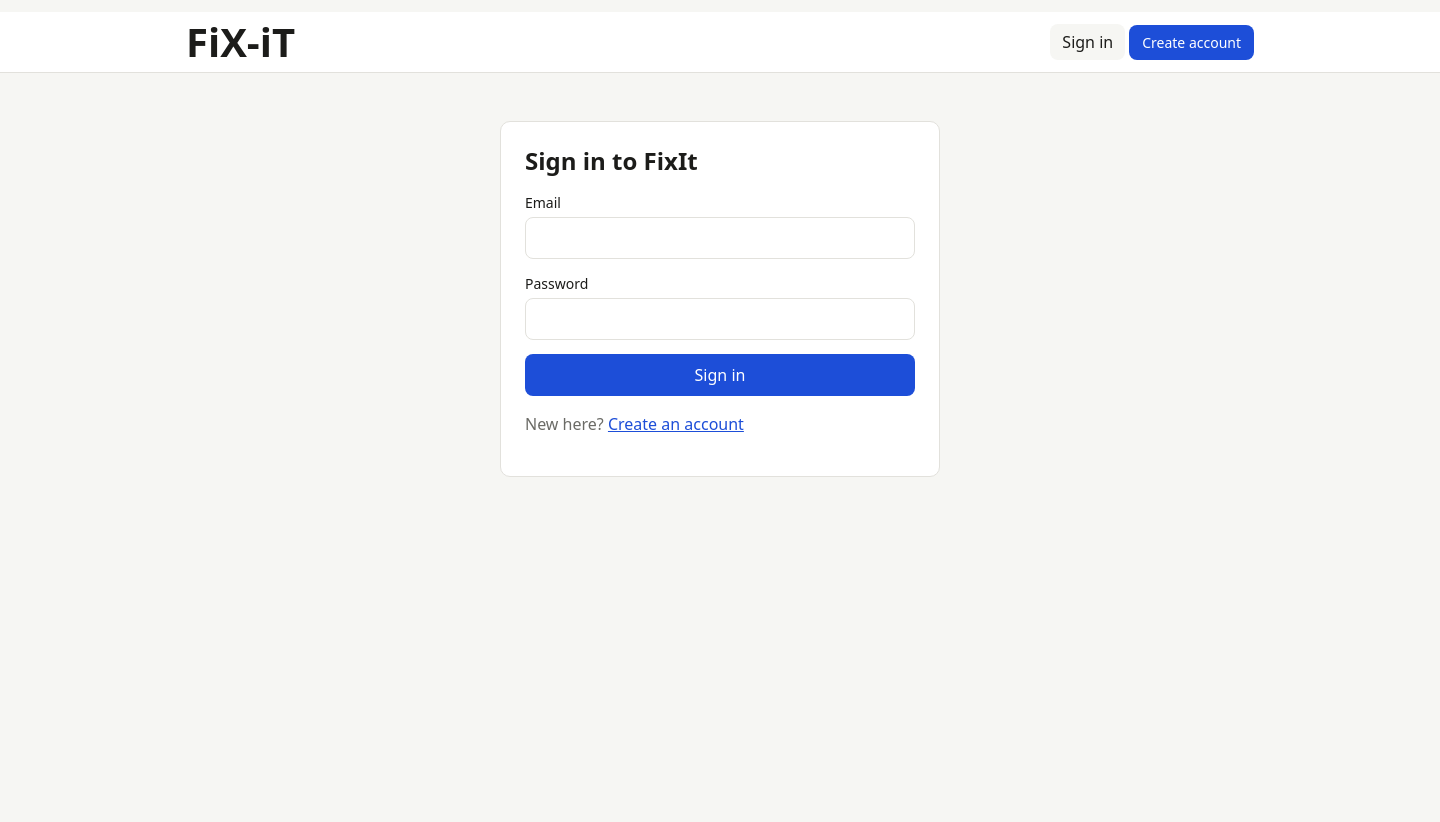
Scenario: signing in › shows the server's message for a wrong password
Type "x@example.com" into the field labelled "Email" at (720, 238), box [525, 217, 915, 259]
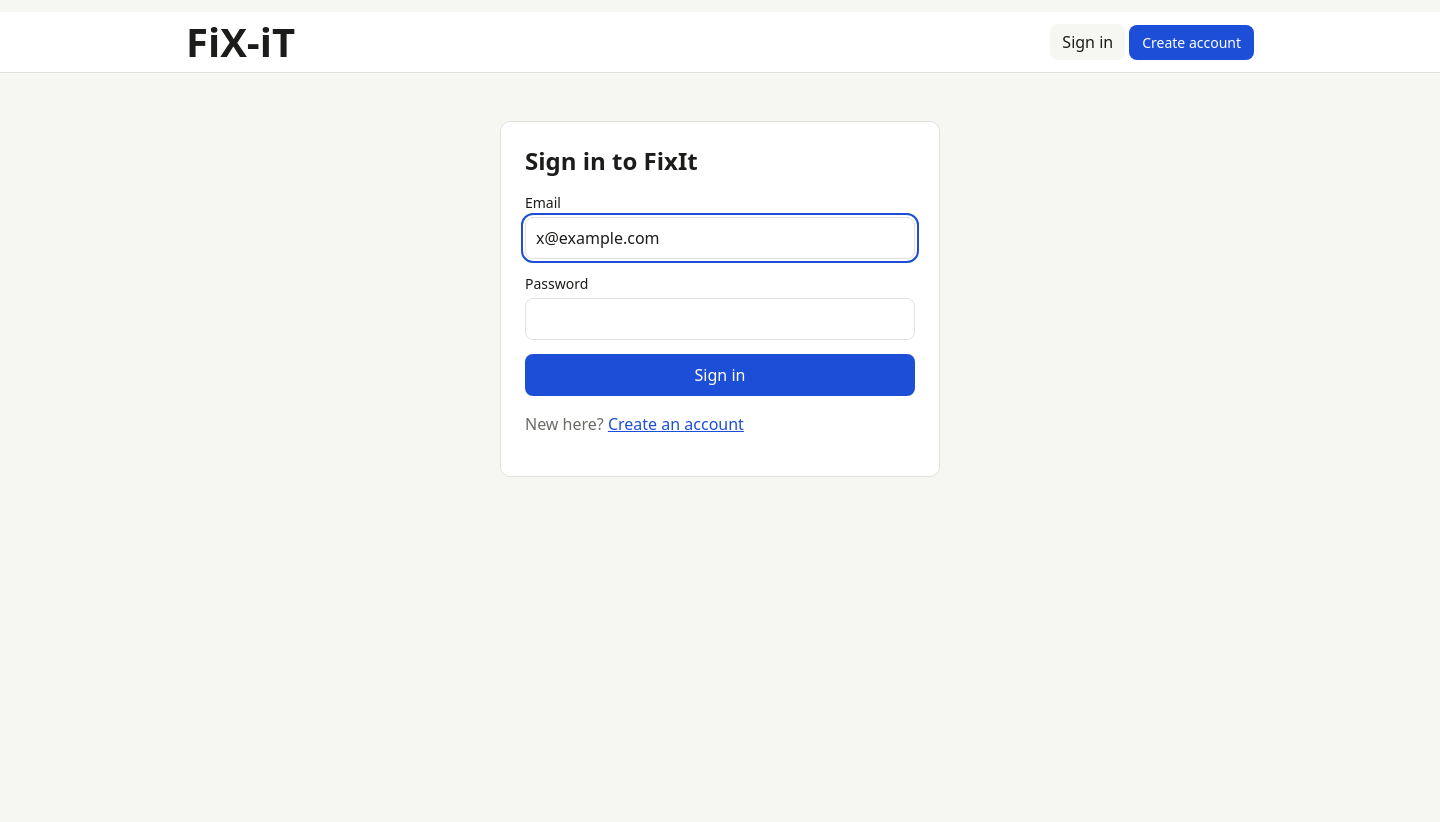
Type "wrongpass" into the password field labelled "Password" at (720, 319), box [525, 298, 915, 340]
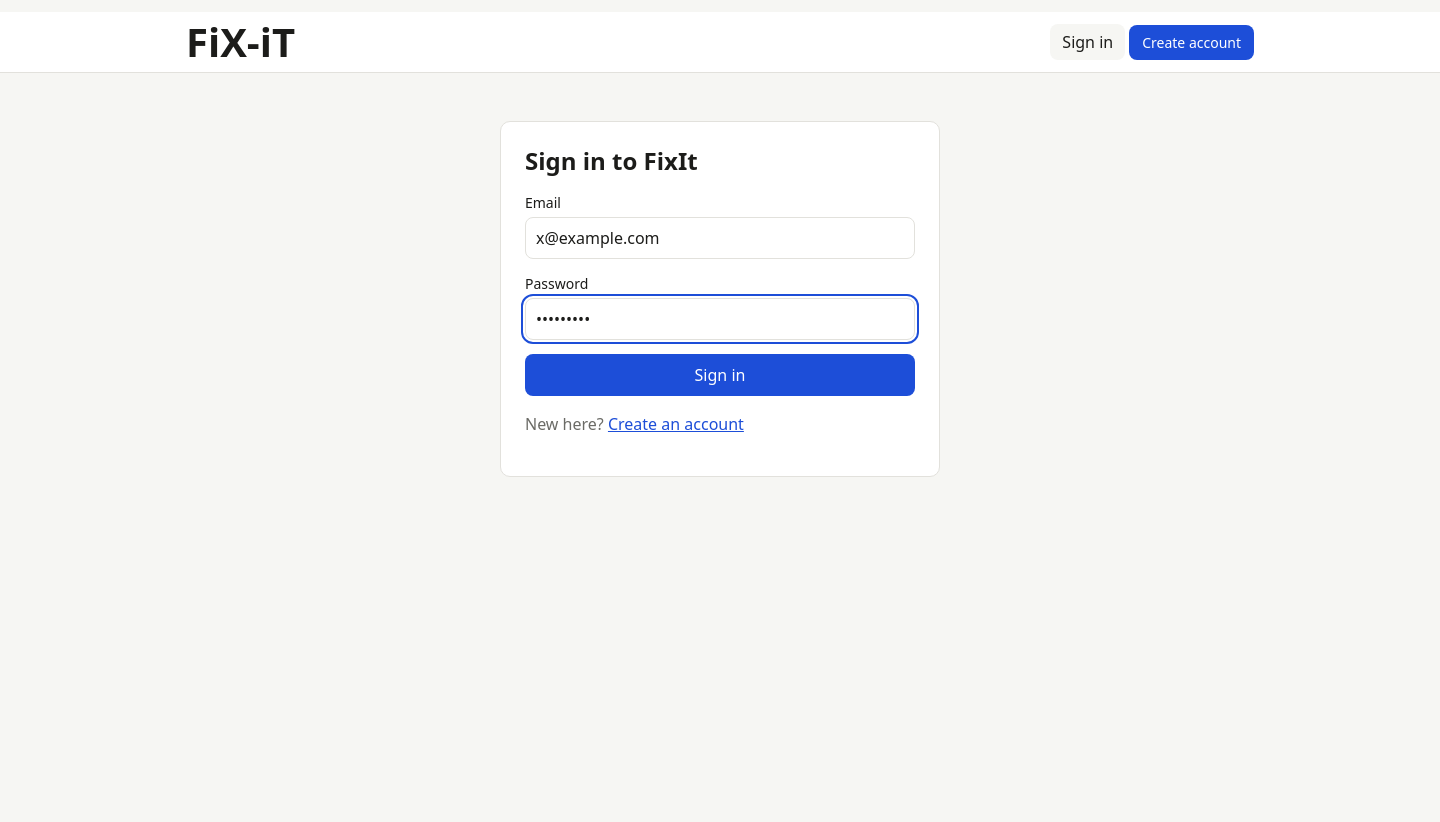
Click the button "Sign in" at (720, 375), box [525, 354, 915, 396]
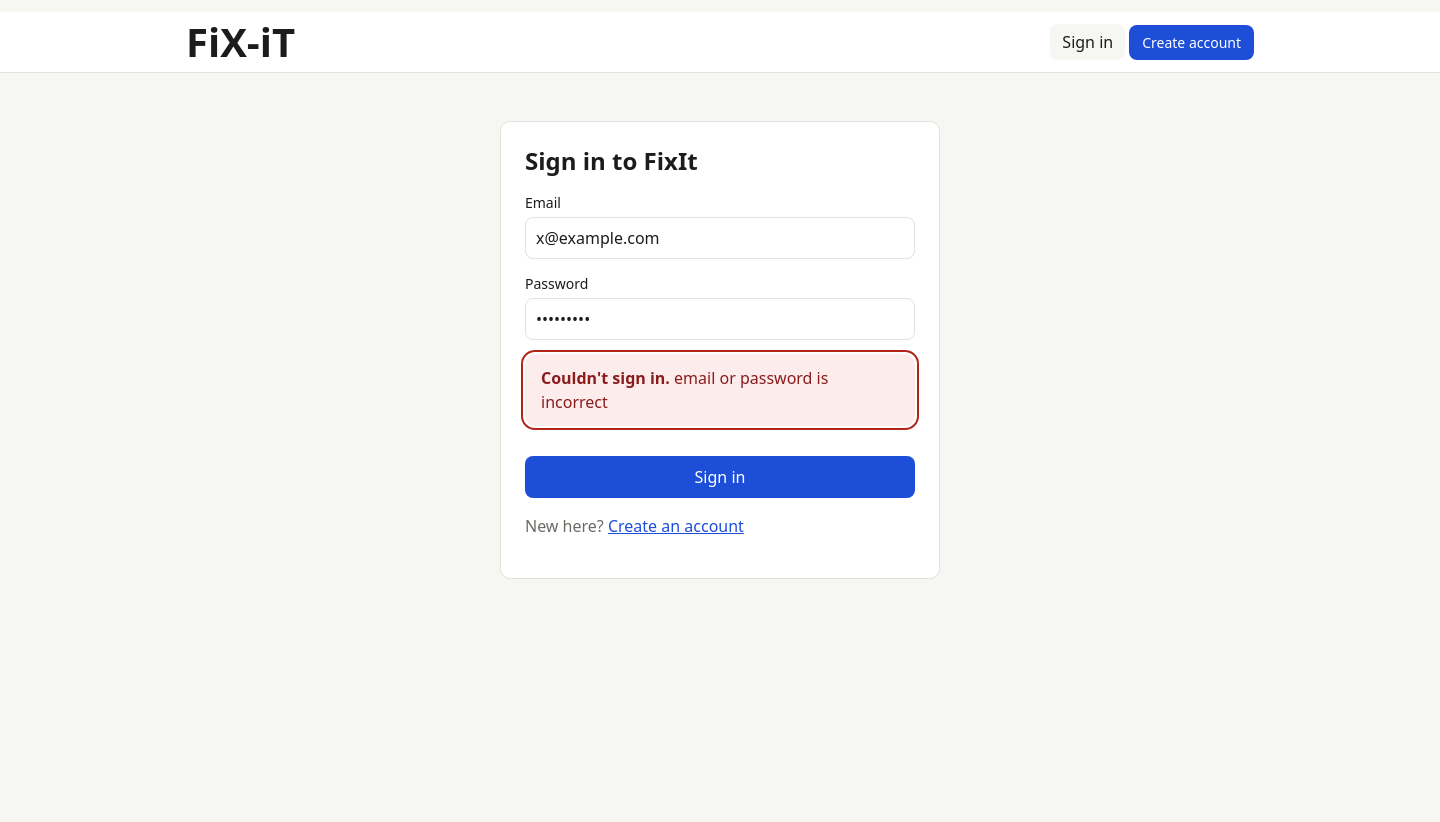
expect the message shows "email or password is incorrect": met, box [541, 367, 828, 413]
